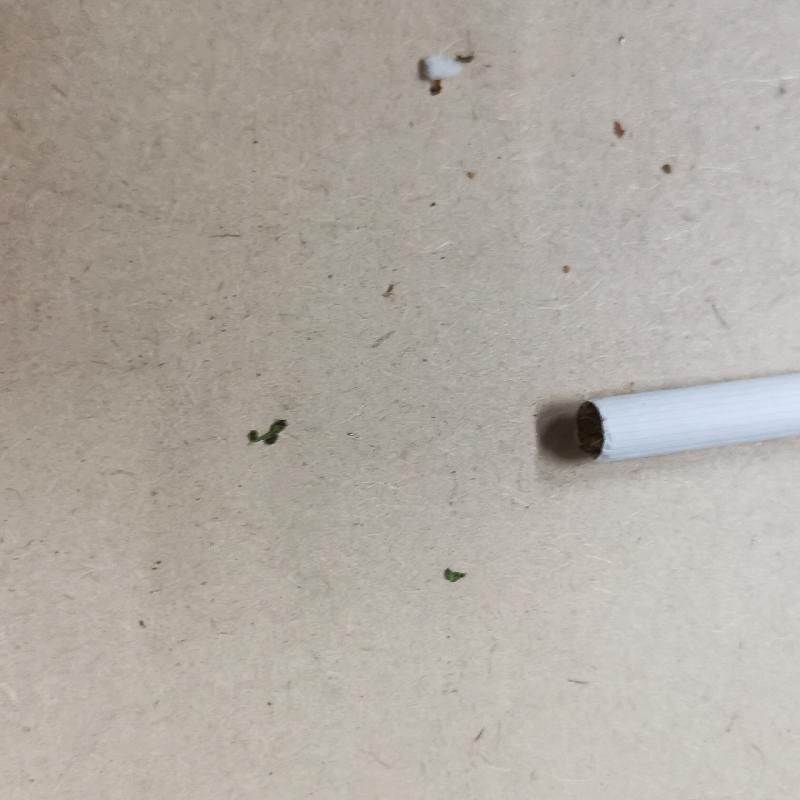cigarette: (575, 376, 800, 465)
